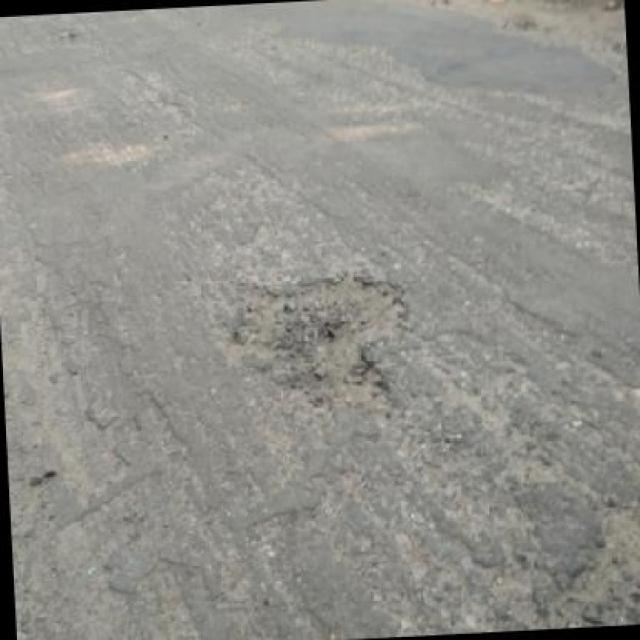pothole1: (225, 261, 418, 422)
